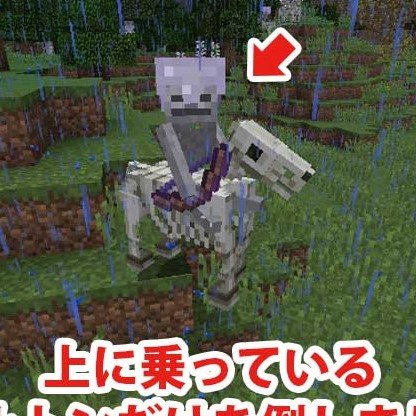skeleton: (150, 49, 242, 163)
